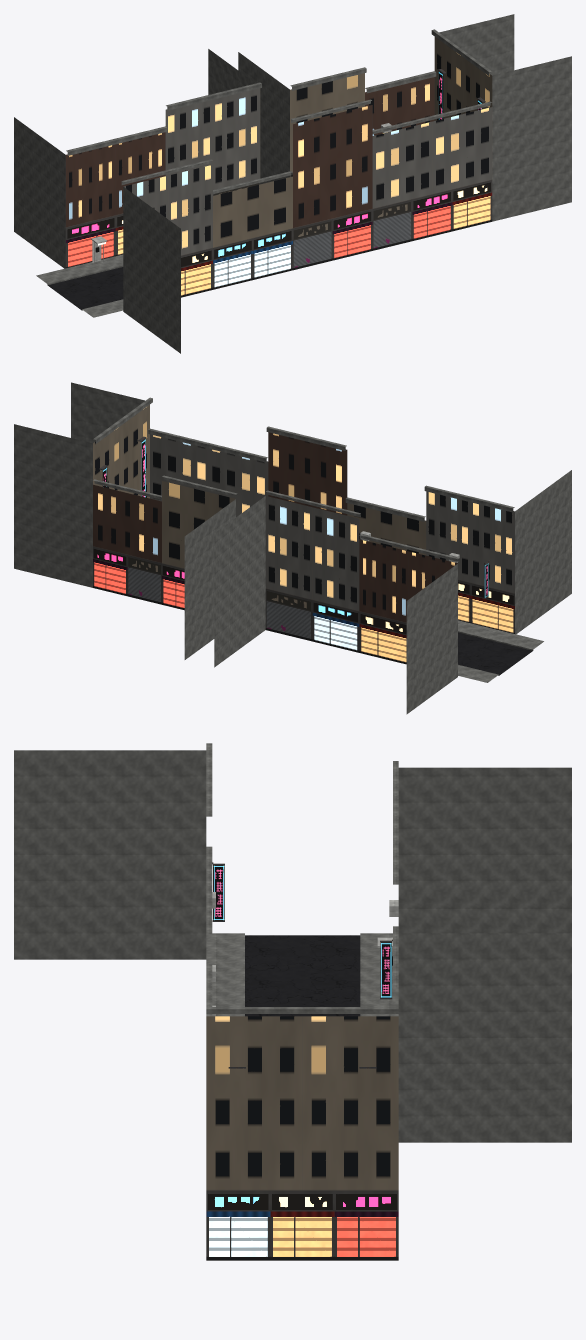
Rendered from night_main_street.glb.
The picture shows the model from 3 angles, top to bottom: view 1: azimuth 30°, elevation 25°; view 2: azimuth 150°, elevation 25°; view 3: azimuth 270°, elevation 25°; orthographic projection. The views are drawn at different scales.
Parts seen in each view (by area): view 1: night_main_street; view 2: night_main_street; view 3: night_main_street.
Boxes of the visible parts, bbox=[...] form: night_main_street: bbox=[14, 14, 571, 353]; night_main_street: bbox=[14, 382, 571, 714]; night_main_street: bbox=[14, 743, 571, 1260].
Size of the model in its own units: 48 by 14.4 by 29.
12 materials, 12 textured.
